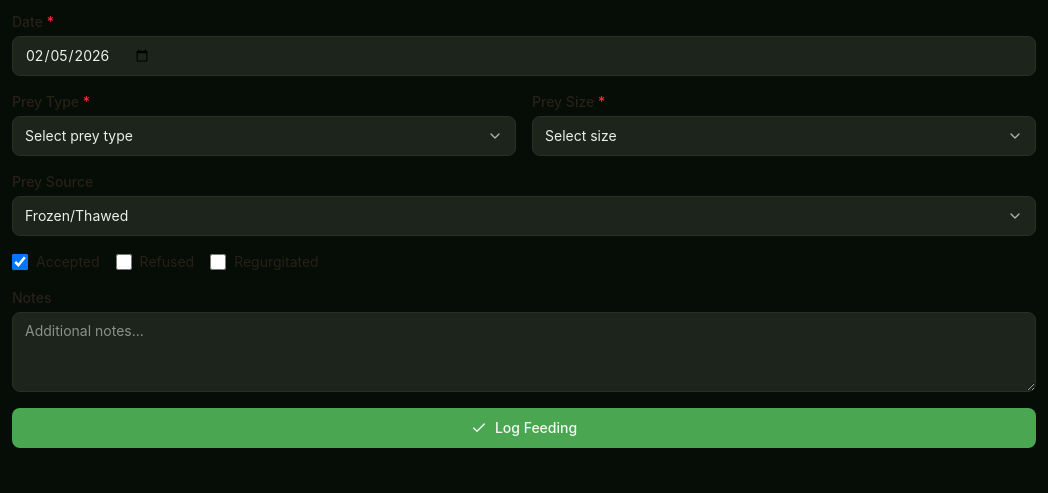
Test case: FeedingForm › validation › should show error when prey type is not selected
Submit without selecting prey type
Step 1. Click the button "Log Feeding" → (524, 428), box [12,408,1036,448]
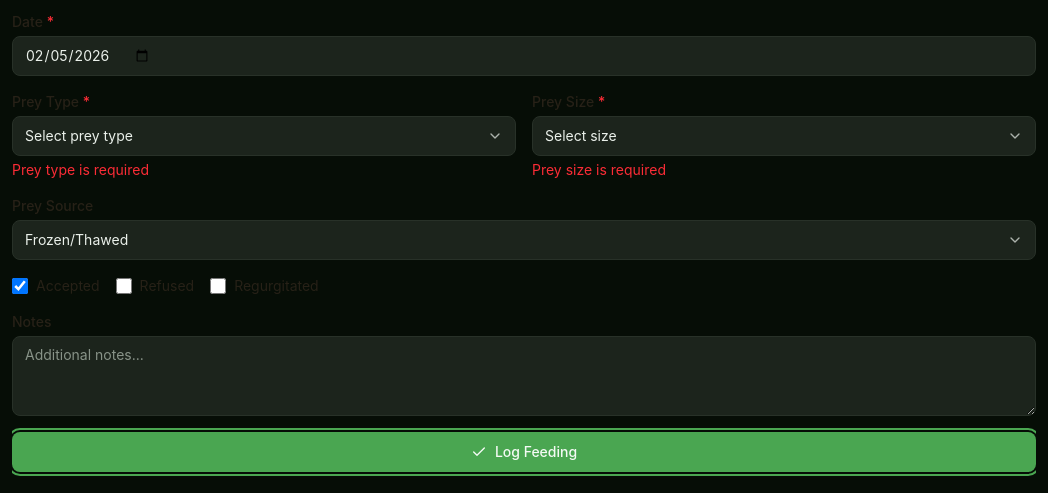
Expected: the text "Prey type is required" is shown, [12,161,149,178]
